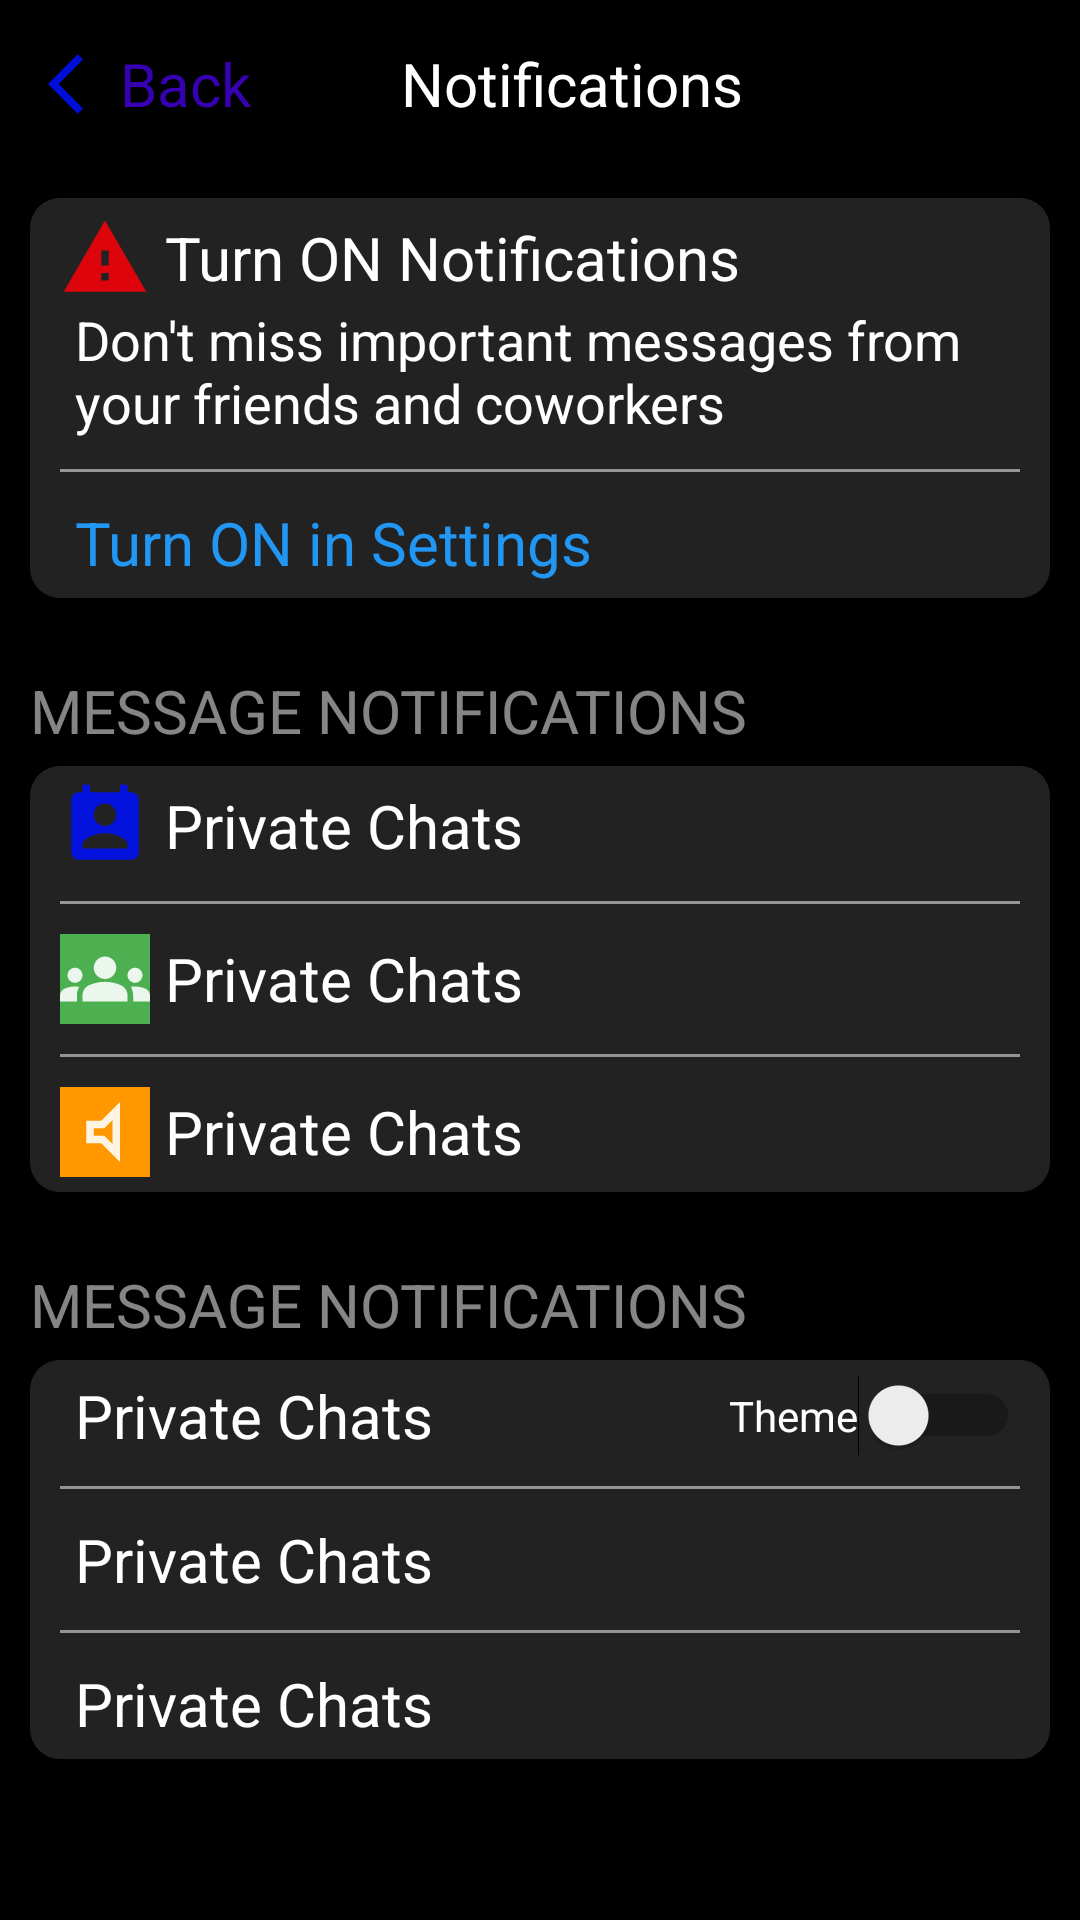

Named icons in this screenshot (1080px×1920px) and their bounding boxes, (x1=x1, y1=y1, x2=x2, y2=y2):
groups: (x1=60, y1=934, x2=150, y2=1024)
perm contact calendar: (x1=71, y1=784, x2=139, y2=860)
volume mute: (x1=60, y1=1087, x2=150, y2=1177)
warning: (x1=64, y1=221, x2=146, y2=292)
